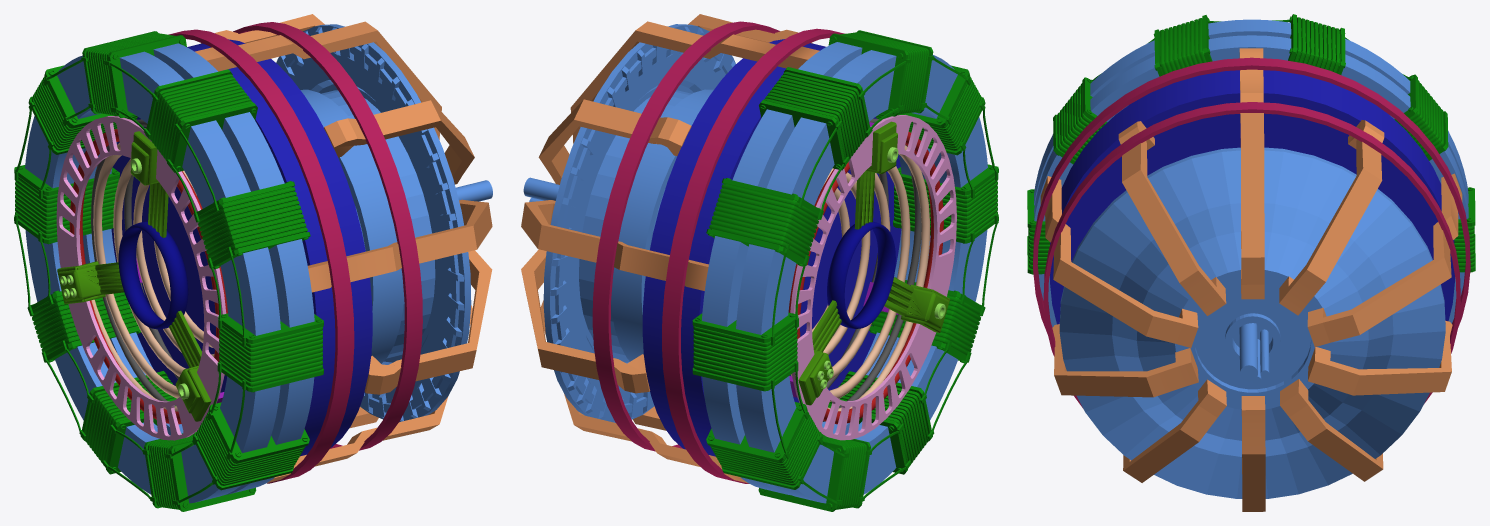
File: Arc+Reactor+OBJ.obj
The picture shows the model from 3 angles, left to right: view 1: azimuth 30°, elevation 25°; view 2: azimuth 150°, elevation 25°; view 3: azimuth 270°, elevation 25°; orthographic projection. The views are drawn at different scales.
Visible parts, largest first — view 1: Cylinder006, Reacton_Chamber, SecondaryHeatSink, Cylinder007, Cylinder005, Power_Converter, Cylinder016, Cylinder015, Box030, Box002, HeatSinkCoil, Box029 (+20 smaller); view 2: Cylinder006, Reacton_Chamber, SecondaryHeatSink, Cylinder007, Cylinder005, Power_Converter, Cylinder016, Cylinder015, HeatSinkCoil, Box027, Box026, Box028 (+19 smaller); view 3: SecondaryHeatSink, Reacton_Chamber, Cylinder016, Cylinder015, Cylinder005, Box035, Box032, Box031, Box038, Box037, Box040, Box039 (+10 smaller).
Boxes of the visible parts, <box> form: Cylinder006: <box>25,51,280,503</box>; Reacton_Chamber: <box>111,39,372,456</box>; SecondaryHeatSink: <box>276,24,492,422</box>; Cylinder007: <box>56,116,226,440</box>; Cylinder005: <box>83,43,314,494</box>; Power_Converter: <box>300,89,435,363</box>; Cylinder016: <box>169,29,354,483</box>; Cylinder015: <box>233,22,422,450</box>; Box030: <box>193,181,310,337</box>; Box002: <box>210,313,323,457</box>; HeatSinkCoil: <box>91,143,224,411</box>; Box029: <box>144,69,257,212</box>; Cylinder006: <box>736,50,987,503</box>; Reacton_Chamber: <box>642,39,901,456</box>; SecondaryHeatSink: <box>523,24,735,422</box>; Cylinder007: <box>790,115,956,440</box>; Cylinder005: <box>702,42,930,495</box>; Power_Converter: <box>579,89,713,361</box>; Cylinder016: <box>662,28,844,483</box>; Cylinder015: <box>592,21,780,451</box>; HeatSinkCoil: <box>791,145,930,411</box>; Box027: <box>706,123,844,266</box>; Box026: <box>692,247,805,391</box>; Box028: <box>759,59,909,170</box>; SecondaryHeatSink: <box>1059,147,1445,498</box>; Reacton_Chamber: <box>1050,70,1454,324</box>; Cylinder016: <box>1033,57,1470,333</box>; Cylinder015: <box>1043,102,1460,407</box>; Cylinder005: <box>1034,35,1468,327</box>; Box035: <box>1040,176,1198,347</box>; Box032: <box>1307,173,1462,346</box>; Box031: <box>1239,48,1264,299</box>; Box038: <box>1279,120,1384,315</box>; Box037: <box>1118,121,1226,315</box>; Box040: <box>1052,324,1198,397</box>; Box039: <box>1308,320,1452,395</box>.
Size of what is drawn, in the model's own units: 94.48 by 106 by 107.
